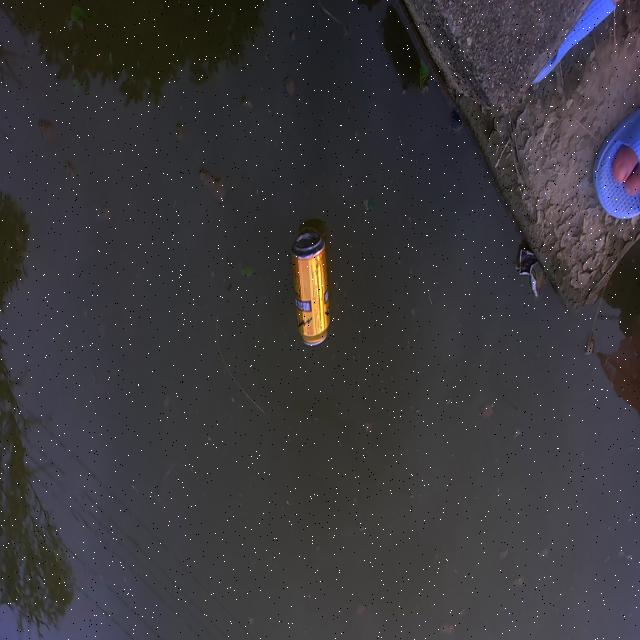Can: (289, 221, 334, 355)
